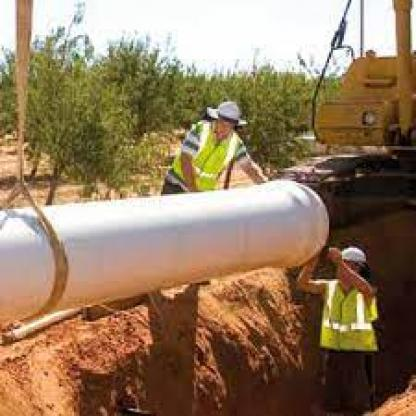PVC: (1, 178, 329, 330)
